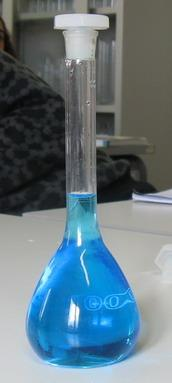Volumetric flask: (29, 12, 145, 365)
